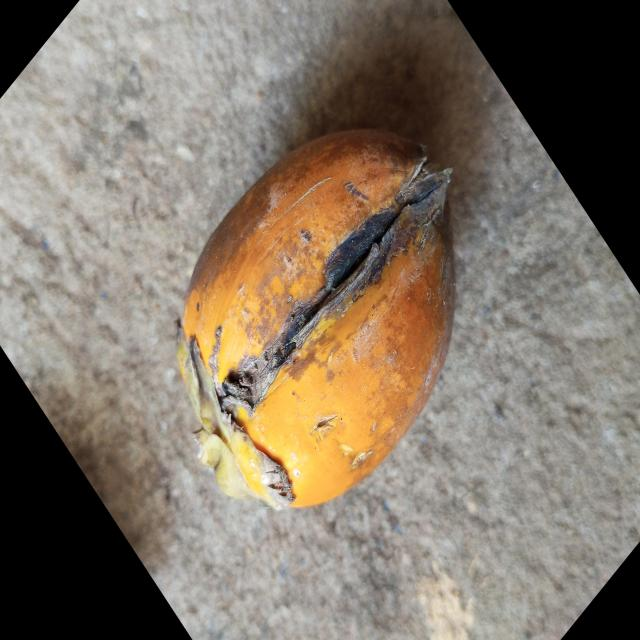damaged: (176, 129, 455, 515)
